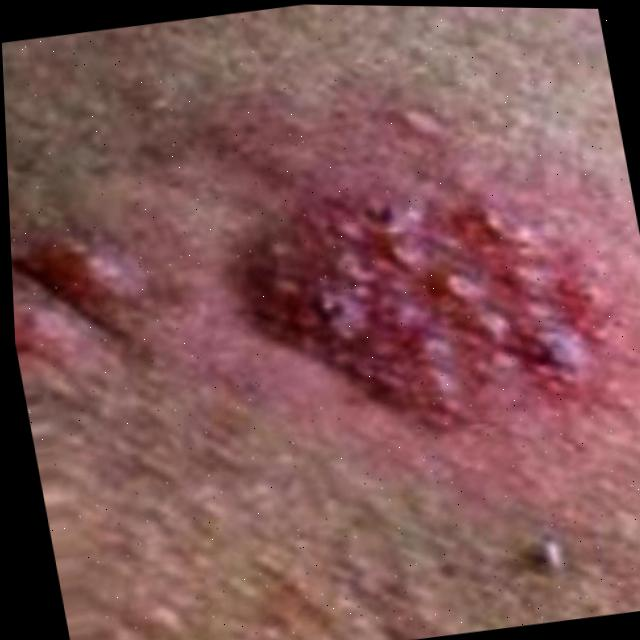Shingles: (226, 178, 621, 450), (30, 216, 144, 319)
